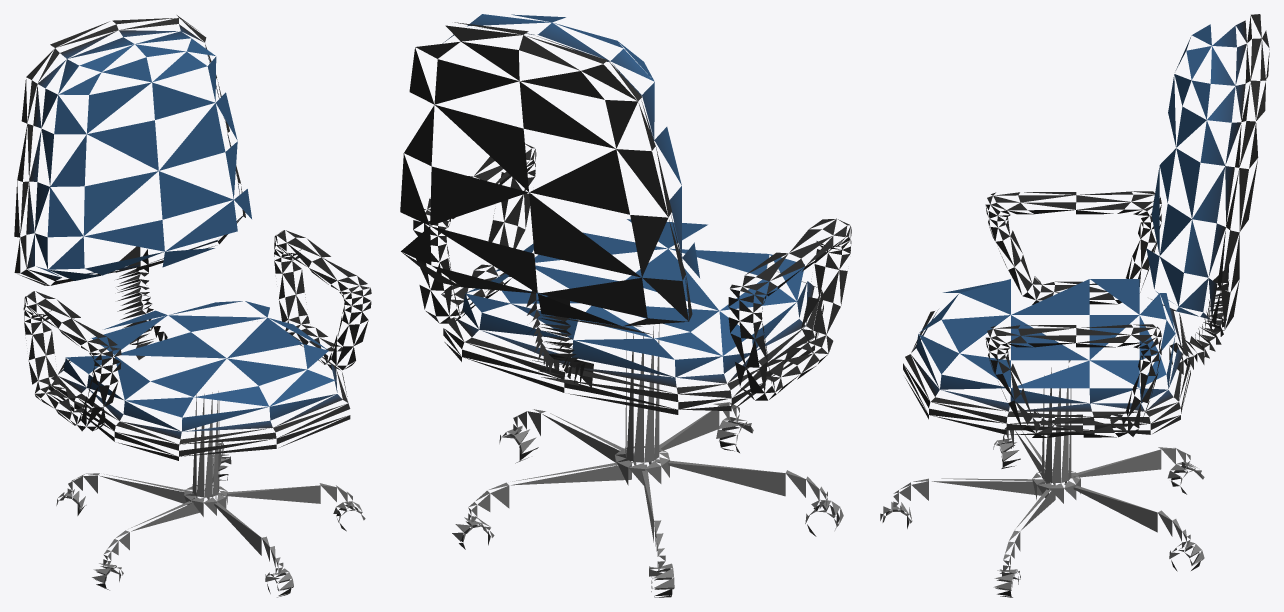
File: office_chair_01.glb
3 renders of one model, left to right at view 1: azimuth 30°, elevation 25°; view 2: azimuth 150°, elevation 25°; view 3: azimuth 270°, elevation 25°, orthographic. The views are drawn at different scales.
Parts seen in each view (by area): view 1: geometry_0; view 2: geometry_0; view 3: geometry_0.
Part boxes in pixels (bbox=[...]): geometry_0: bbox=[14, 15, 371, 597]; geometry_0: bbox=[400, 14, 851, 597]; geometry_0: bbox=[880, 14, 1269, 597].
Bounding box in the file's own units: 0.7217 × 1.13 × 0.8072.
